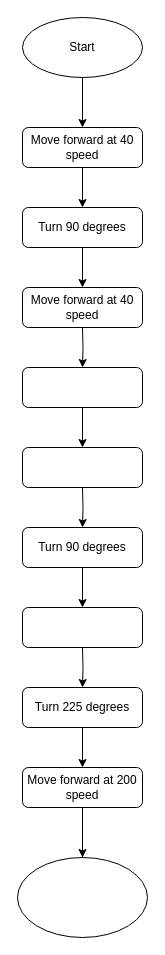
The diagram is 165 pixels wide and 955 high, and some of its shapes have lost their labels. Each missing label, with the centre of its shape:
"End" belongs at pixel 82 897.
"Move forward at 130 speed then slow down" belongs at pixel 82 627.
"Move forward at 40 soeed" belongs at pixel 82 467.
"Turn -90 degrees" belongs at pixel 82 387.
